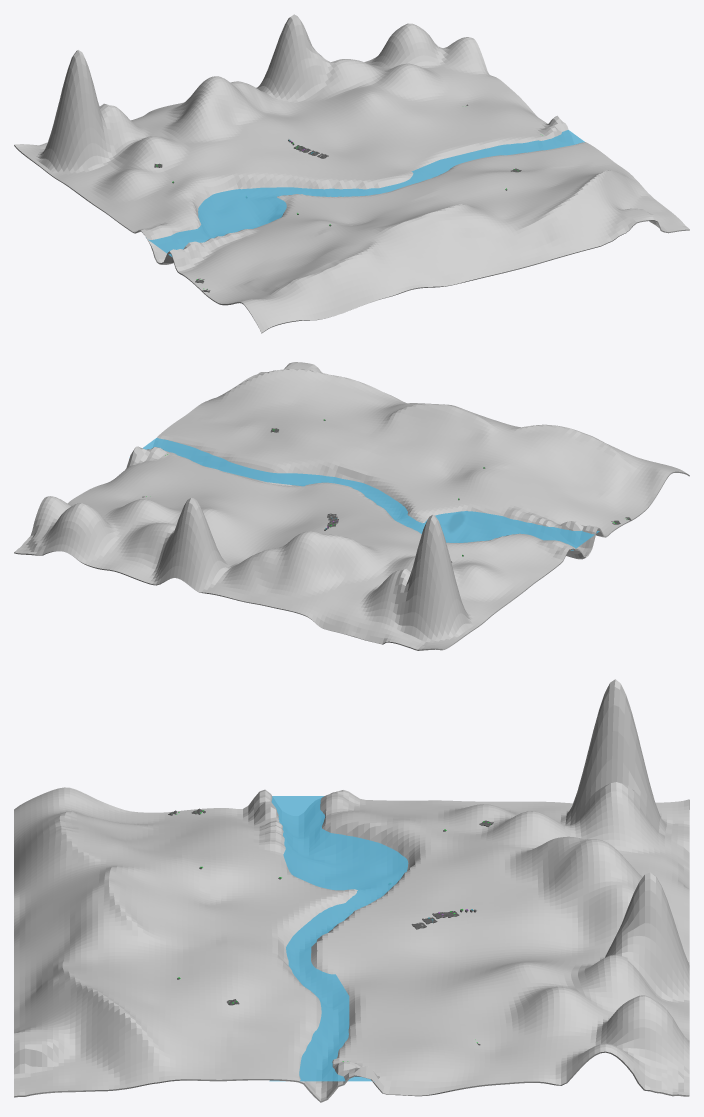
File: maptestvolume.glb
The picture shows the model from 3 angles, top to bottom: view 1: azimuth 30°, elevation 25°; view 2: azimuth 150°, elevation 25°; view 3: azimuth 270°, elevation 25°; orthographic projection. The views are drawn at different scales.
Parts seen in each view (by area): view 1: tearrain, water; view 2: tearrain, water; view 3: tearrain, water.
Boxes of the visible parts, box(x1,y1,x2,y2) form: tearrain: box(14, 14, 689, 333); water: box(146, 130, 584, 256); tearrain: box(14, 362, 689, 650); water: box(129, 438, 599, 550); tearrain: box(14, 679, 689, 1102); water: box(269, 796, 408, 1081).
Bounding box in the file's own units: 501 × 137 × 500.
9 materials, 1 textured.
